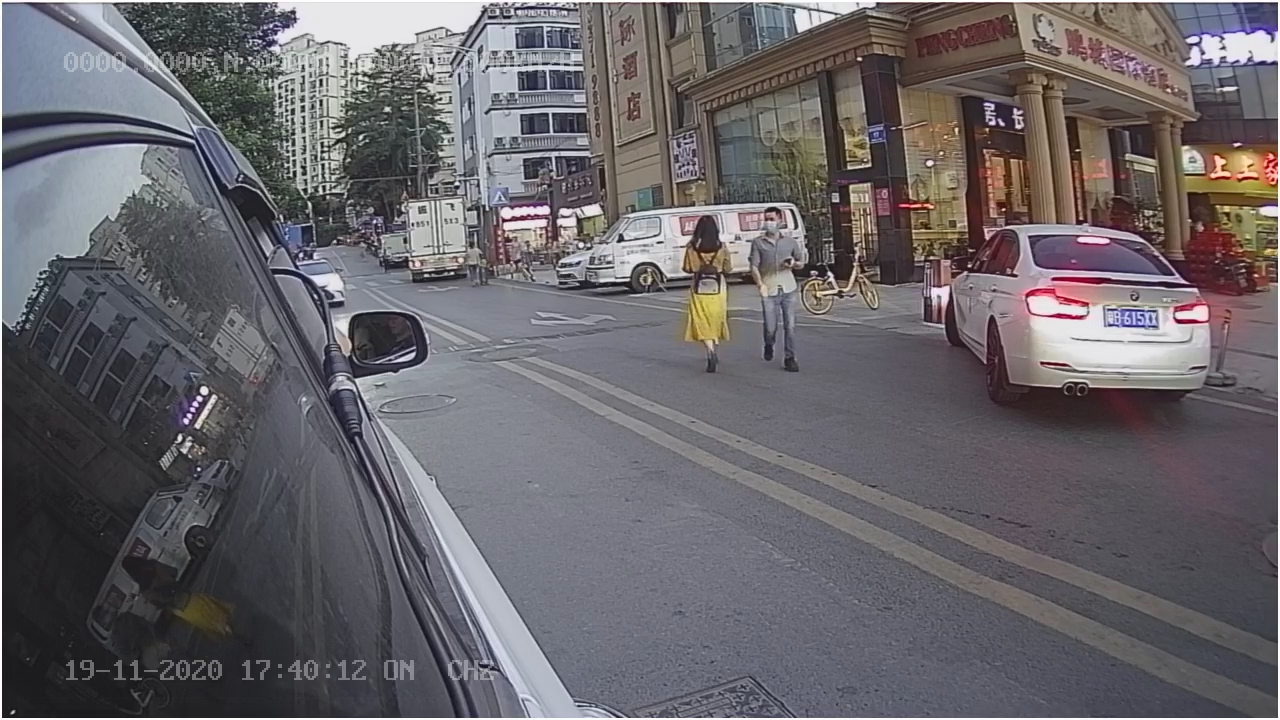person: (748, 201, 813, 383), (680, 211, 740, 378)
